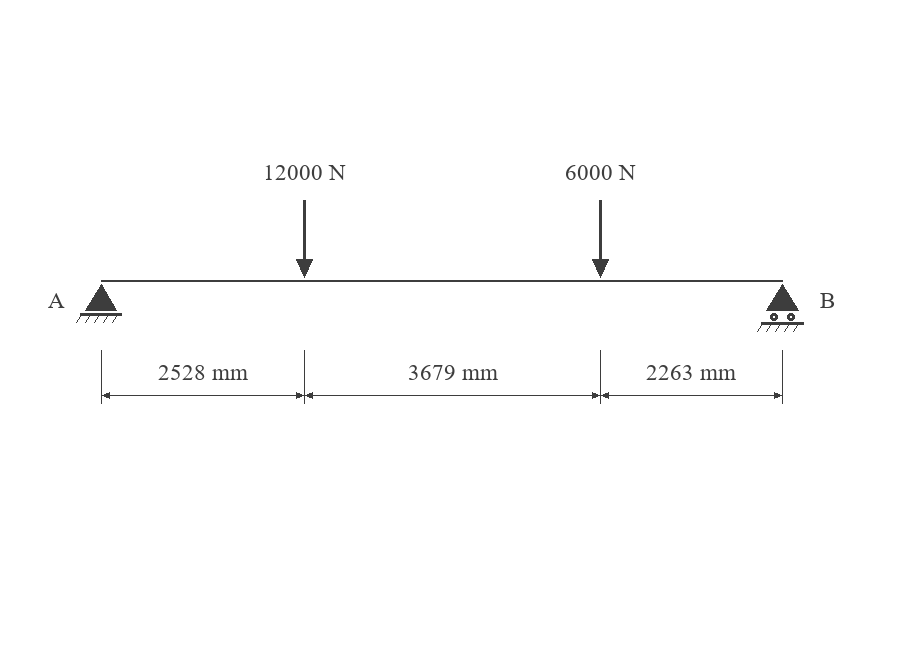pin_support: (76, 284, 122, 323)
point_load: (296, 200, 313, 278), (592, 200, 609, 278)
roller_support: (757, 284, 804, 332)
